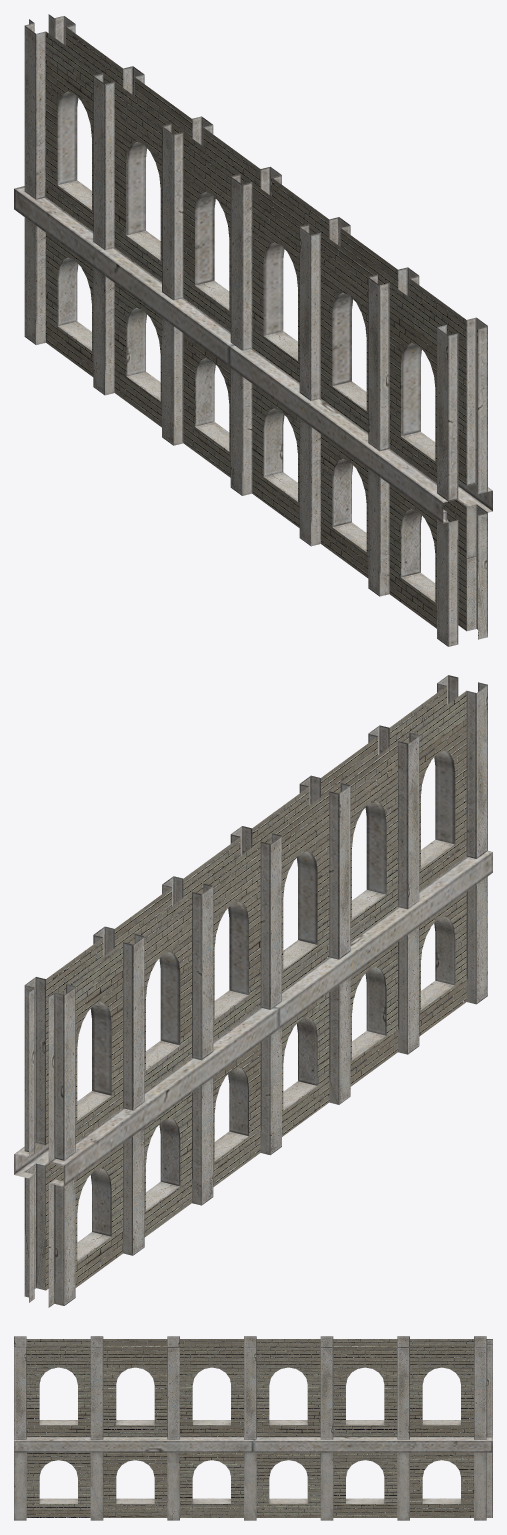
Rendered from SM_SYD_Facade03.fbx.
3 renders of one model, top to bottom at view 1: azimuth 30°, elevation 25°; view 2: azimuth 150°, elevation 25°; view 3: azimuth 270°, elevation 25°, orthographic. The views are drawn at different scales.
Visible parts, largest first — view 1: SM_SYD_Facade03; view 2: SM_SYD_Facade03; view 3: SM_SYD_Facade03.
Part boxes in pixels (x1,y1,x2,y2): SM_SYD_Facade03: (14, 14, 492, 646); SM_SYD_Facade03: (14, 675, 492, 1307); SM_SYD_Facade03: (14, 1336, 492, 1520).
Bounding box in the file's own units: 188 × 1125 × 2812.
